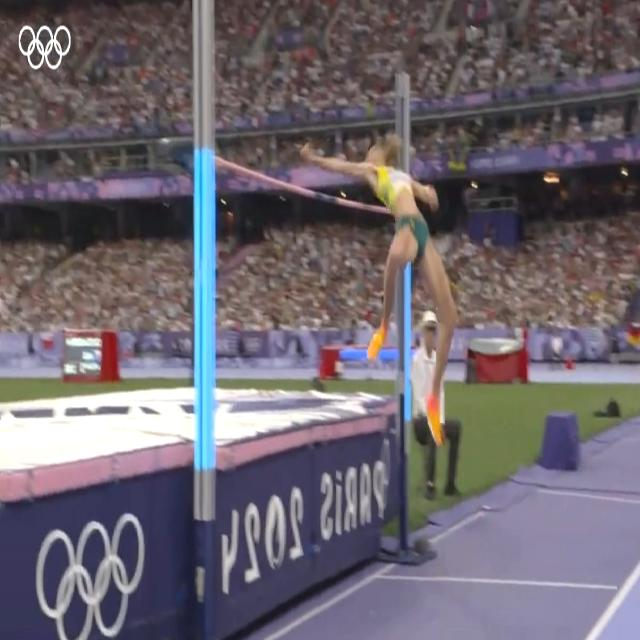jump: (295, 143, 457, 441)
